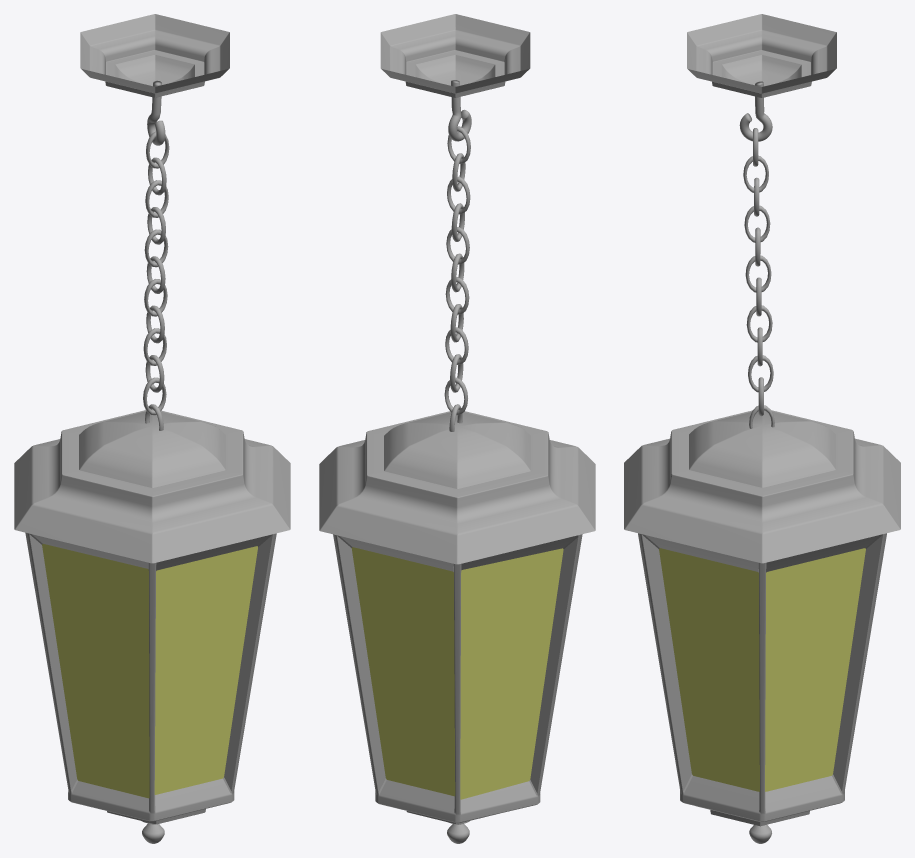
File: SM_LampHanging.fbx
3 renders of one model, left to right at view 1: azimuth 30°, elevation 25°; view 2: azimuth 150°, elevation 25°; view 3: azimuth 270°, elevation 25°, orthographic.
Parts seen in each view (by area): view 1: SM_LampHanging; view 2: SM_LampHanging; view 3: SM_LampHanging.
Boxes of the visible parts, x1,y1,x2,y2 form: SM_LampHanging: [14, 14, 290, 843]; SM_LampHanging: [319, 14, 595, 843]; SM_LampHanging: [624, 14, 900, 843].
Size of the model in its own units: 33.95 by 93.45 by 29.5.
